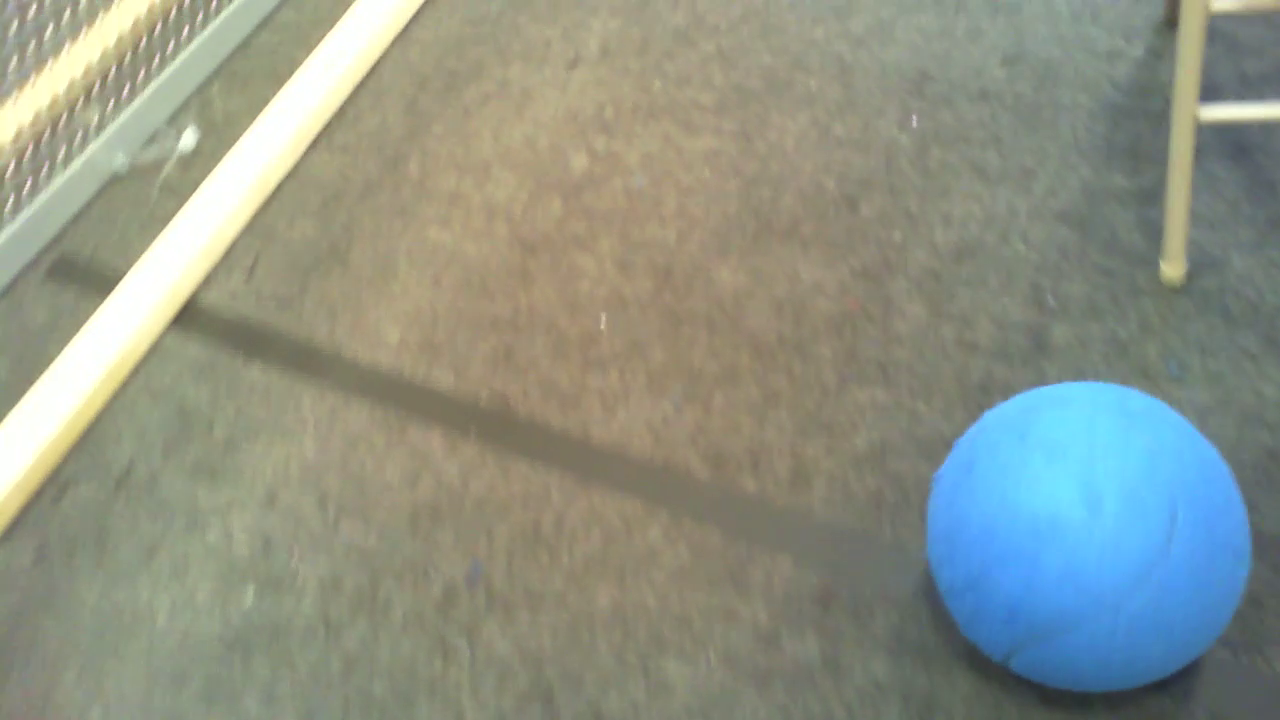blue_cargo: (922, 372, 1257, 697)
